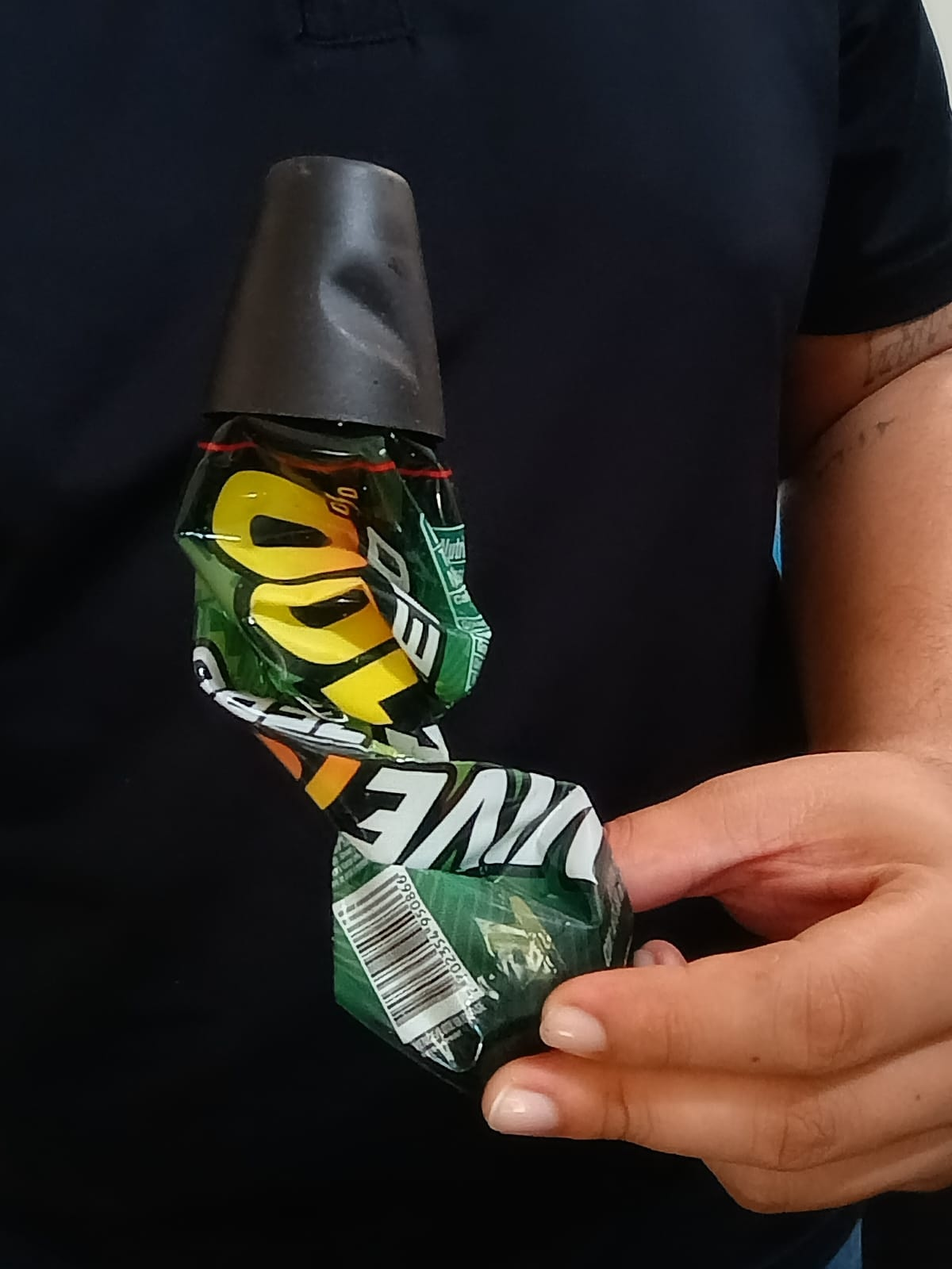Plastico: (177, 156, 643, 1092)
